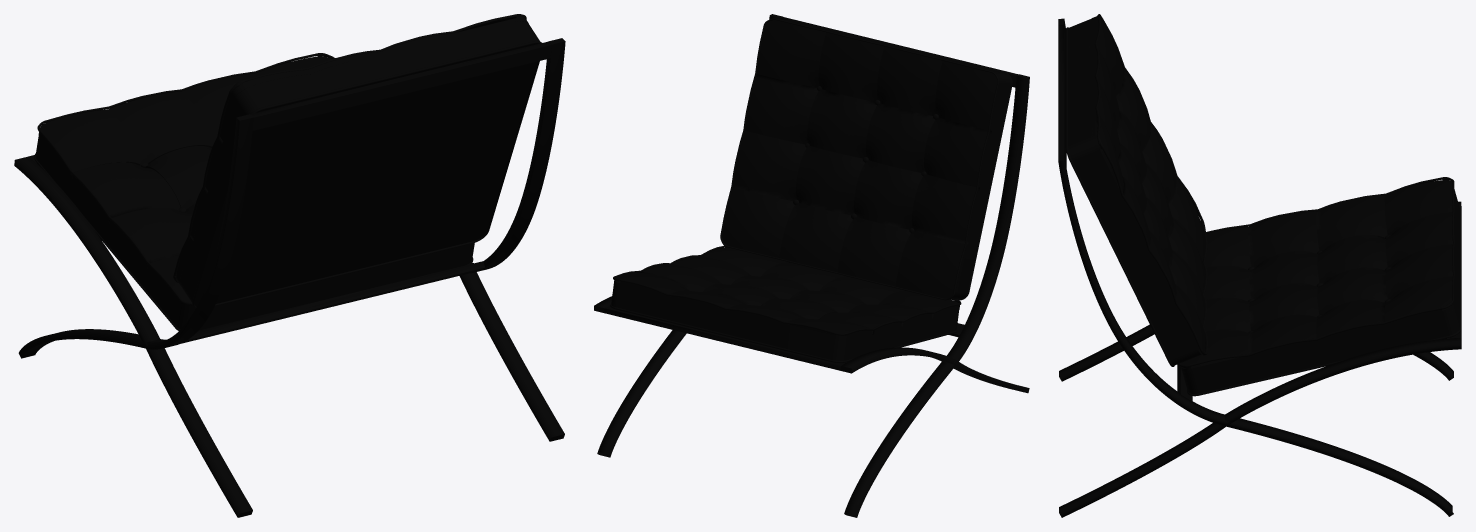
The model's file is Silla_barcelona3.0.glb.
The picture shows the model from 3 angles, left to right: view 1: azimuth 30°, elevation 25°; view 2: azimuth 150°, elevation 25°; view 3: azimuth 270°, elevation 25°; orthographic projection. The views are drawn at different scales.
Parts seen in each view (by area): view 1: imagetostl_mesh0, imagetostl_mesh1, imagetostl_mesh2; view 2: imagetostl_mesh0, imagetostl_mesh1, imagetostl_mesh2; view 3: imagetostl_mesh1, imagetostl_mesh0, imagetostl_mesh2.
Boxes of the visible parts, x1,y1,x2,y2 form: imagetostl_mesh0: (173,14,541,308); imagetostl_mesh1: (34,53,474,330); imagetostl_mesh2: (14,38,565,517); imagetostl_mesh0: (720,18,1012,300); imagetostl_mesh1: (610,246,961,362); imagetostl_mesh2: (594,14,1029,517); imagetostl_mesh1: (1179,177,1461,396); imagetostl_mesh0: (1065,14,1207,366); imagetostl_mesh2: (1058,18,1461,517).
Bounding box in the file's own units: 6.41 × 7.84 × 7.69.
3 materials, 3 textured.
